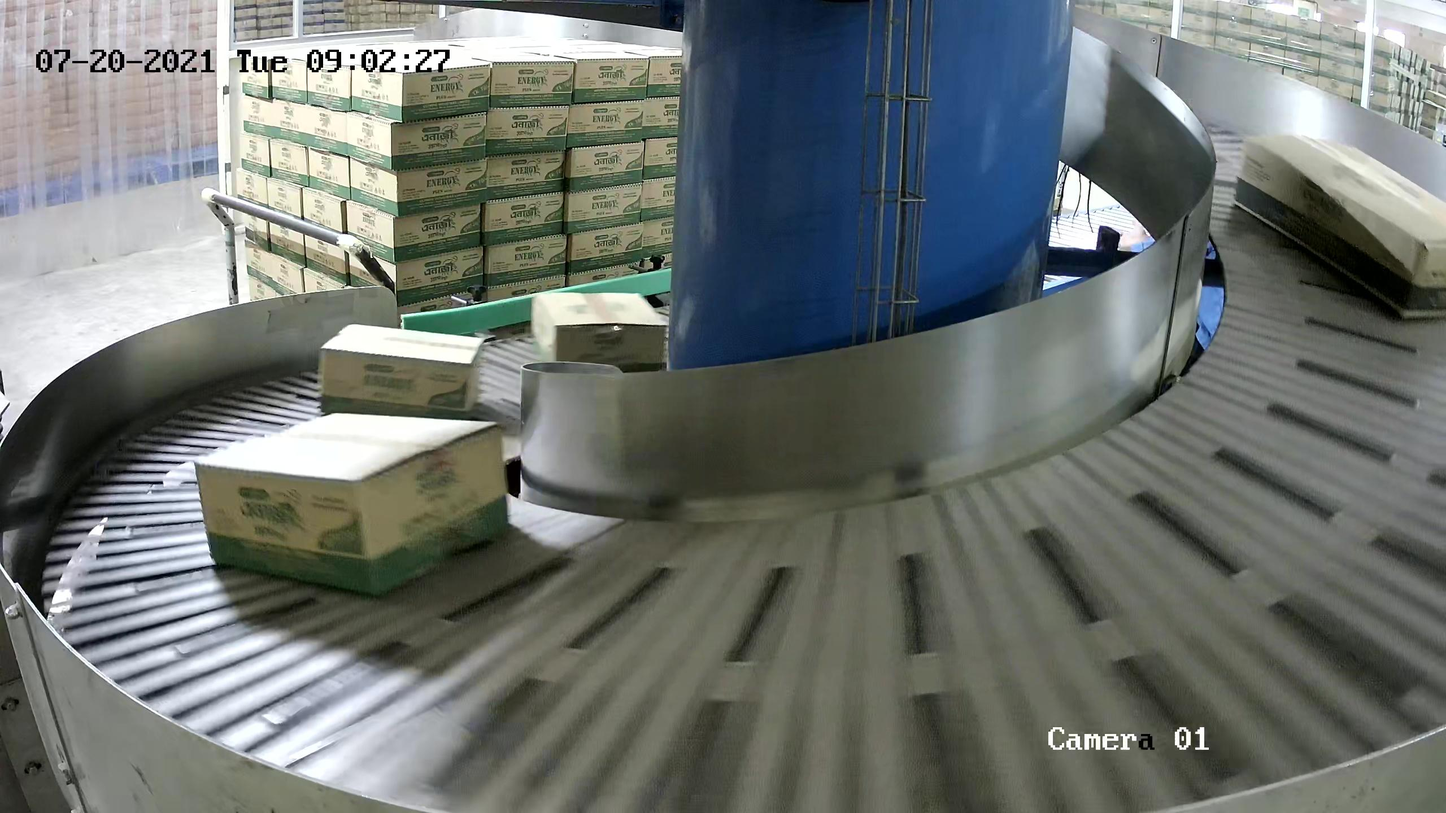Box: (190, 409, 512, 602), (1231, 126, 1446, 325), (314, 321, 490, 419), (528, 288, 670, 387)
